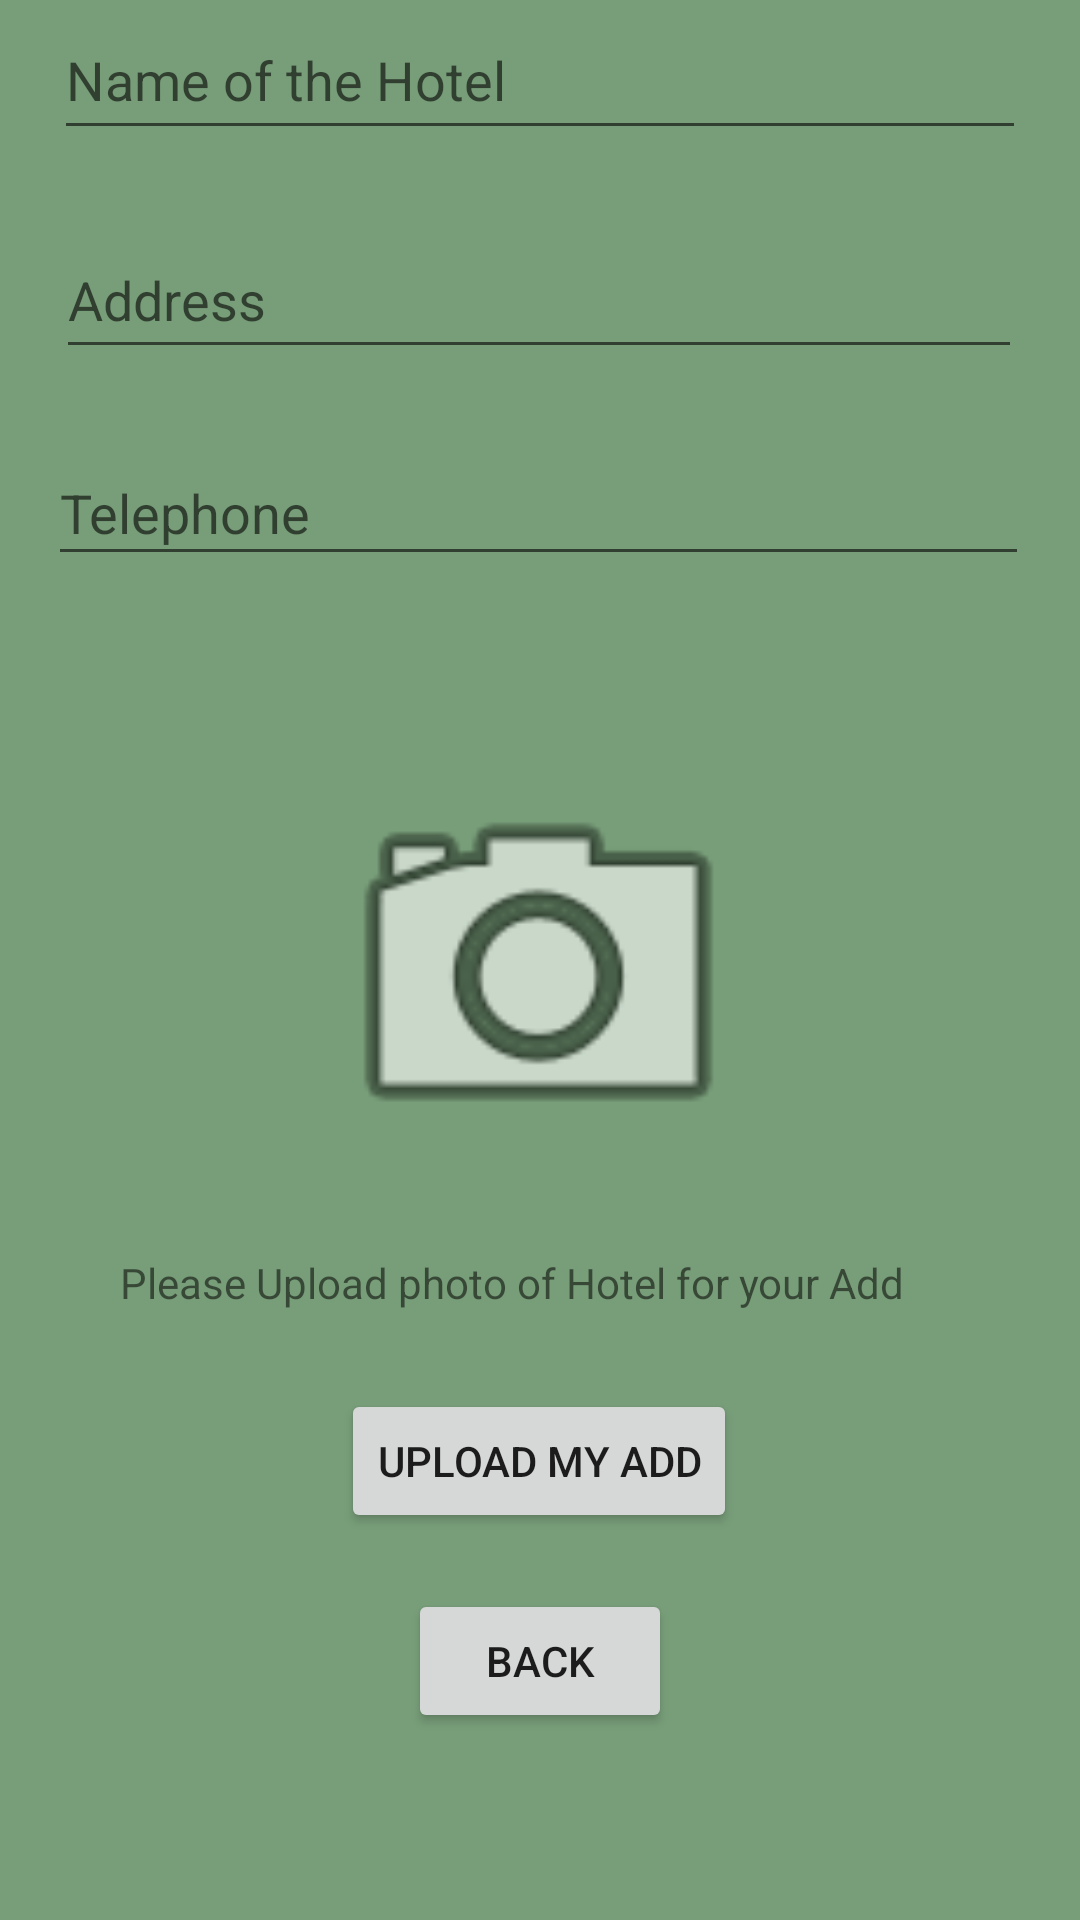

Where icons sit on this 1080*1920 app screen, as region(x1, y1, x2, y2):
camera: region(365, 824, 712, 1100)
